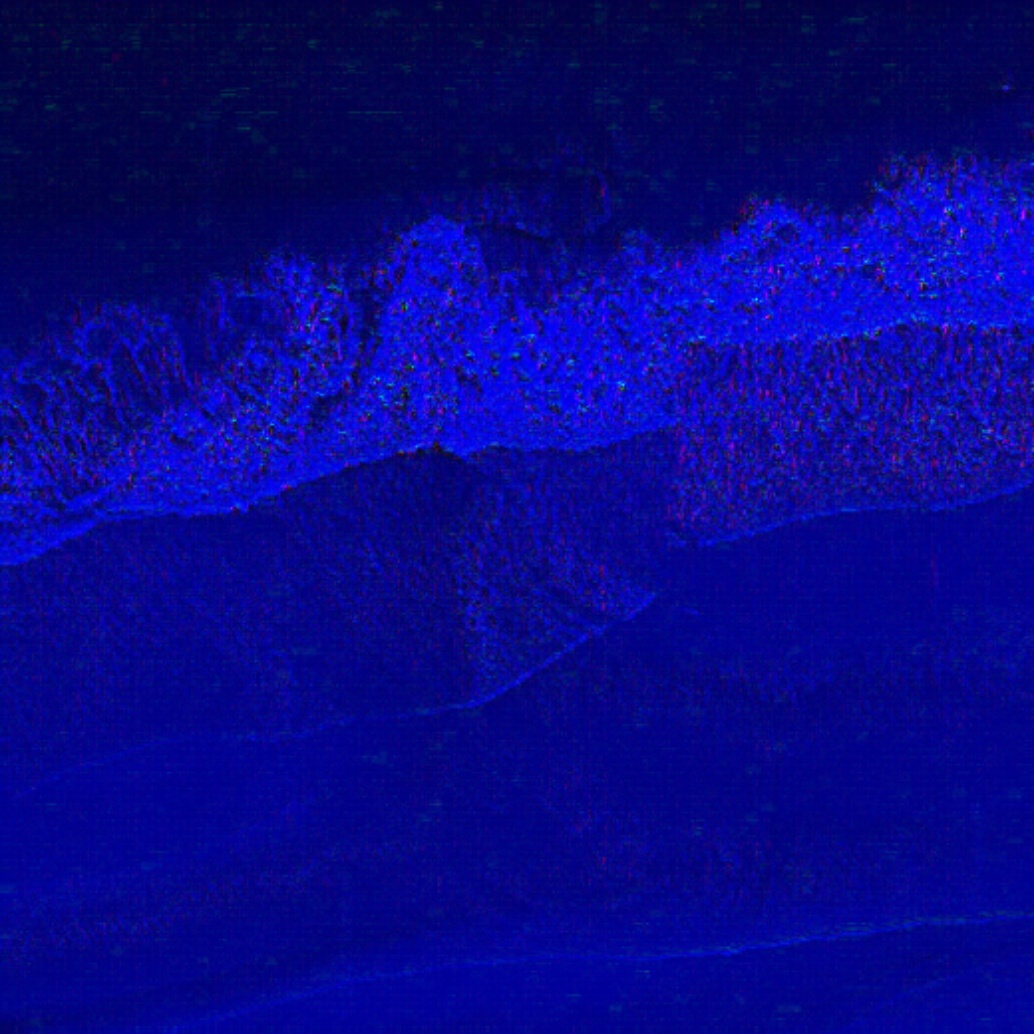rip_current: (294, 220, 549, 668)
